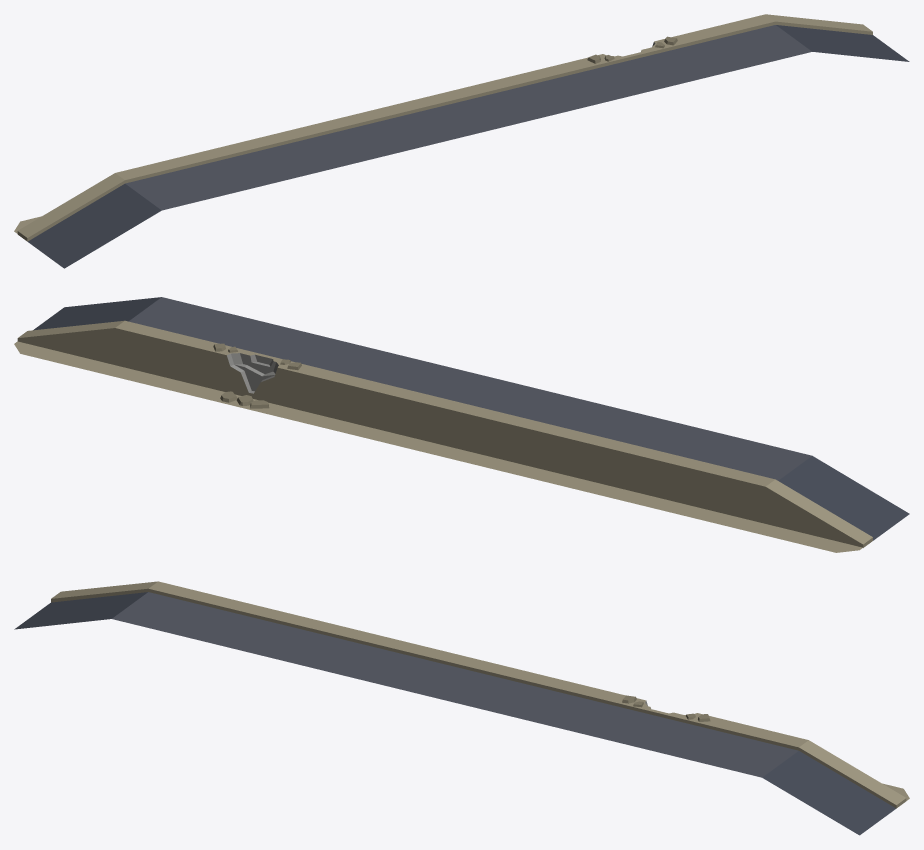
File: Road Top1.fbx
The picture shows the model from 3 angles, top to bottom: view 1: azimuth 30°, elevation 25°; view 2: azimuth 150°, elevation 25°; view 3: azimuth 330°, elevation 25°; orthographic projection.
Visible parts, largest first — view 1: Road Top1; view 2: Road Top1; view 3: Road Top1.
Boxes of the visible parts, x1,y1,x2,y2 form: Road Top1: (14,14,909,268); Road Top1: (14,297,909,552); Road Top1: (14,581,909,835).
Bounding box in the file's own units: 26 × 1.19 × 3.14.
Materials: 1 (1 with a texture image).
